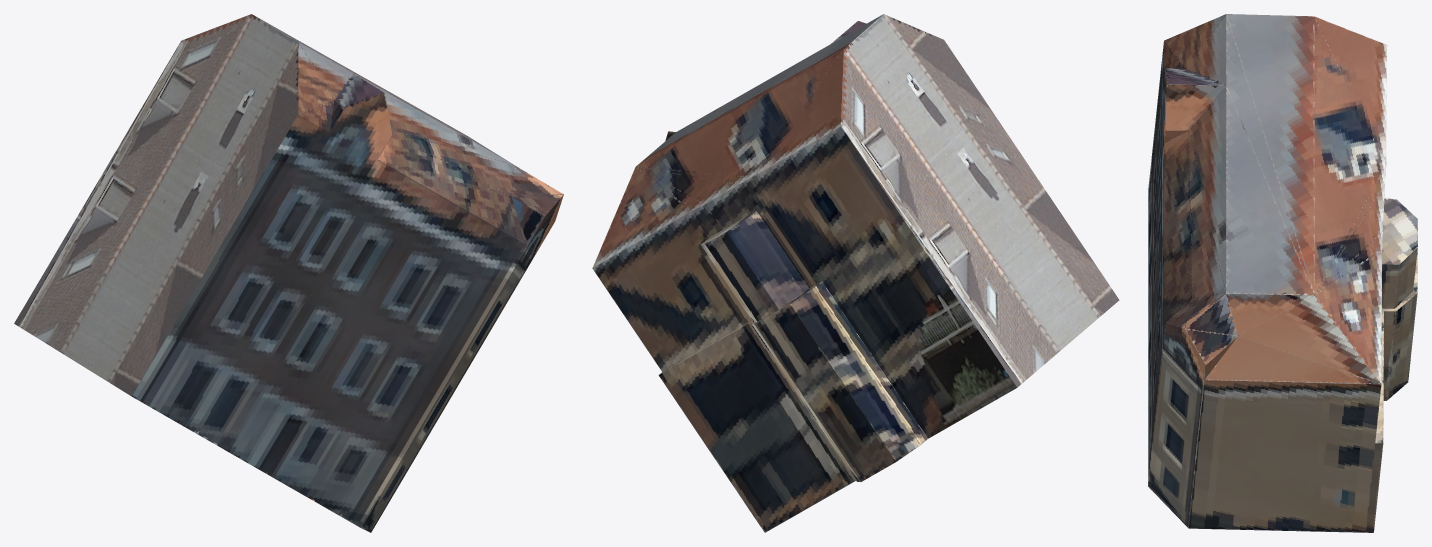
3 views of the same model, side by side, from view 1: azimuth 30°, elevation 25°; view 2: azimuth 150°, elevation 25°; view 3: azimuth 270°, elevation 25° (orthographic). The views are drawn at different scales.
Parts seen in each view (by area): view 1: BAG_0599100000688744 (×6); view 2: BAG_0599100000688744 (×6); view 3: BAG_0599100000688744 (×6).
Boxes of the visible parts, x1,y1,x2,y2 form: BAG_0599100000688744 (×6): (14,14,563,532); BAG_0599100000688744 (×6): (592,14,1119,532); BAG_0599100000688744 (×6): (1148,14,1417,532).
Size of the model in its own units: 17.7 by 18.34 by 9.06.
Materials: 1 (1 with a texture image).
